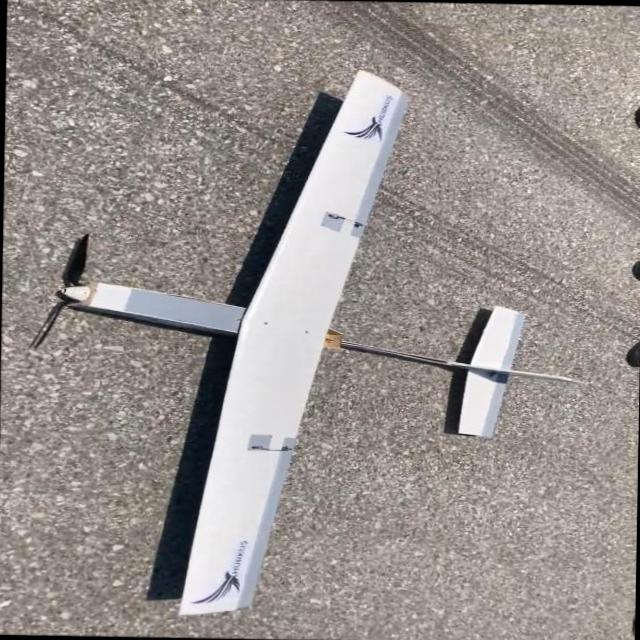UAV: (52, 77, 526, 640)
